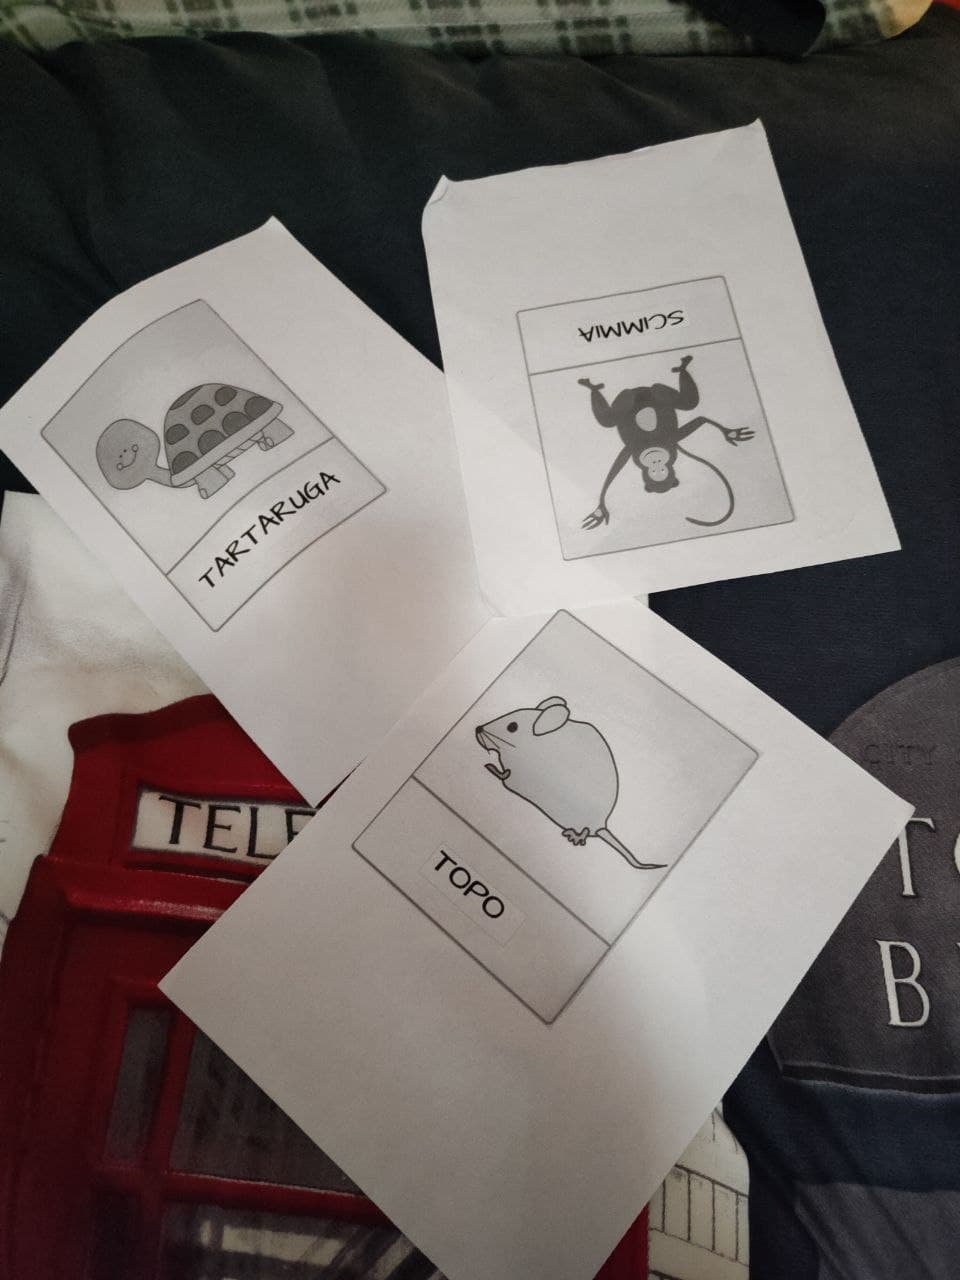scimmia: (537, 297, 785, 545)
tartaruga: (64, 345, 369, 600)
topo: (401, 685, 675, 963)
